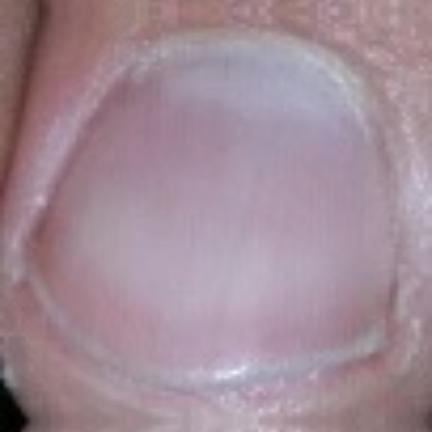Nail: (27, 29, 398, 392)
